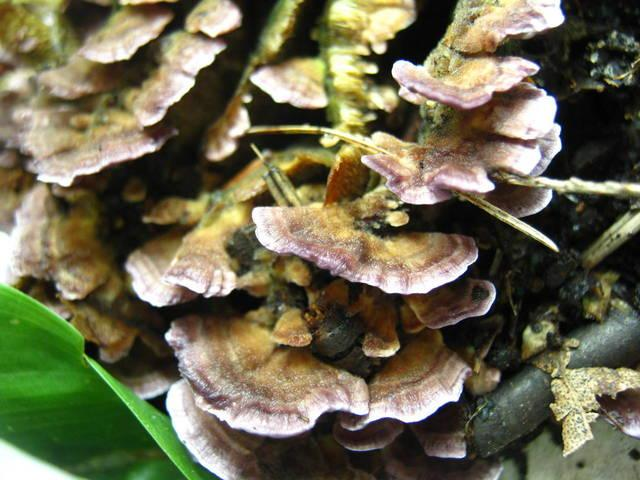Non-edible Mushroom: (0, 0, 628, 423)
